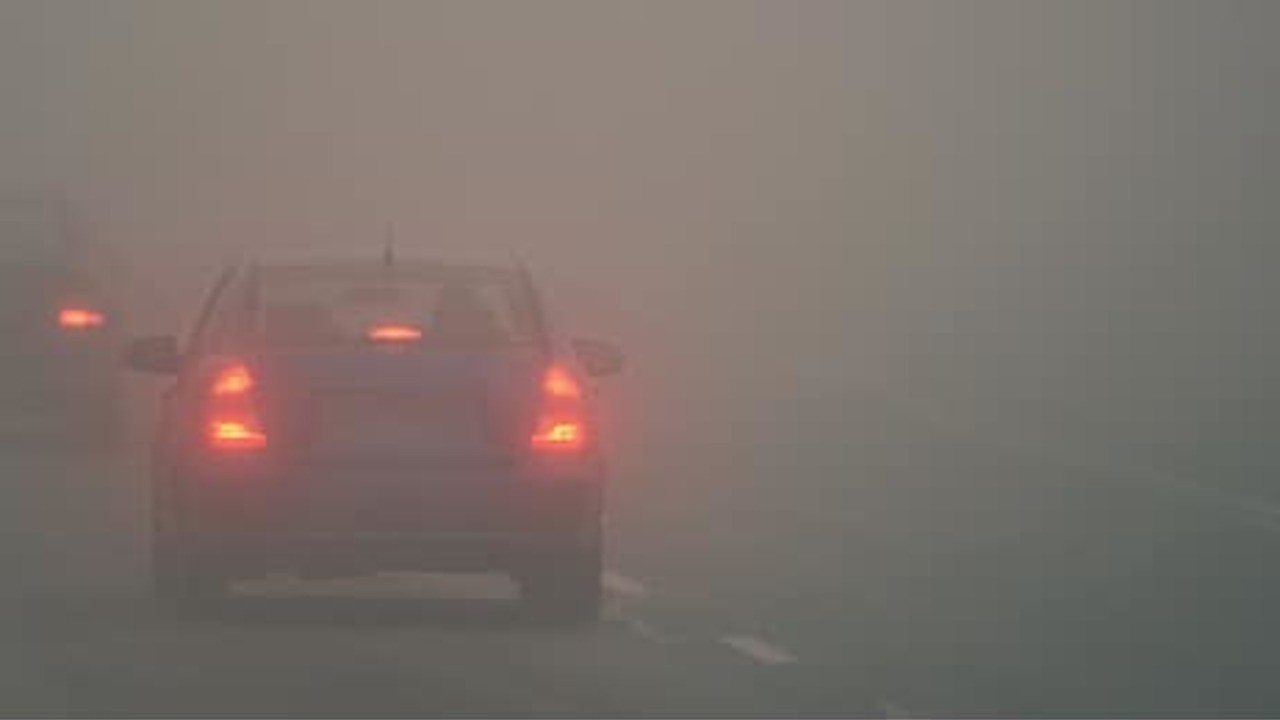car: (134, 246, 606, 591), (0, 188, 122, 440)
